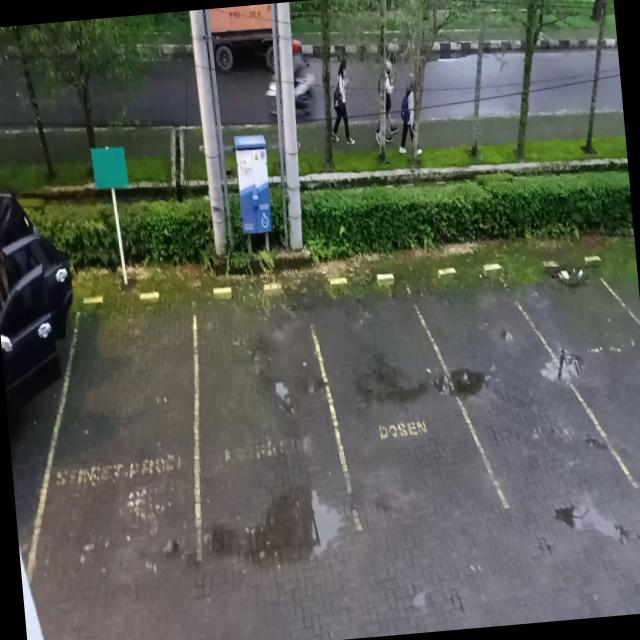free: (34, 291, 214, 587), (182, 288, 359, 564), (318, 271, 474, 534), (434, 257, 573, 518), (543, 254, 640, 503)
